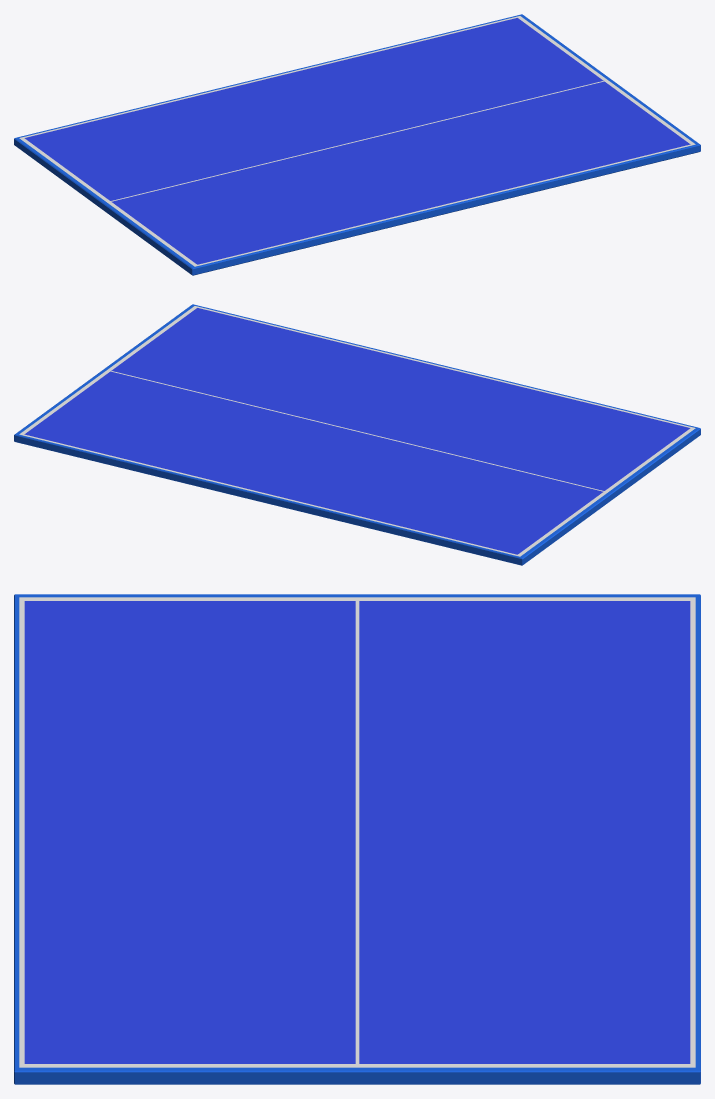
The model's file is table.glb.
3 renders of one model, top to bottom at view 1: azimuth 30°, elevation 25°; view 2: azimuth 150°, elevation 25°; view 3: azimuth 270°, elevation 25°, orthographic. The views are drawn at different scales.
Visible parts, largest first — view 1: desktop; view 2: desktop; view 3: desktop.
Boxes of the visible parts, x1,y1,x2,y2 form: desktop: [14, 14, 700, 275]; desktop: [14, 304, 700, 565]; desktop: [14, 594, 700, 1084].
Size of the model in its own units: 84.9 by 1.18 by 51.6.
